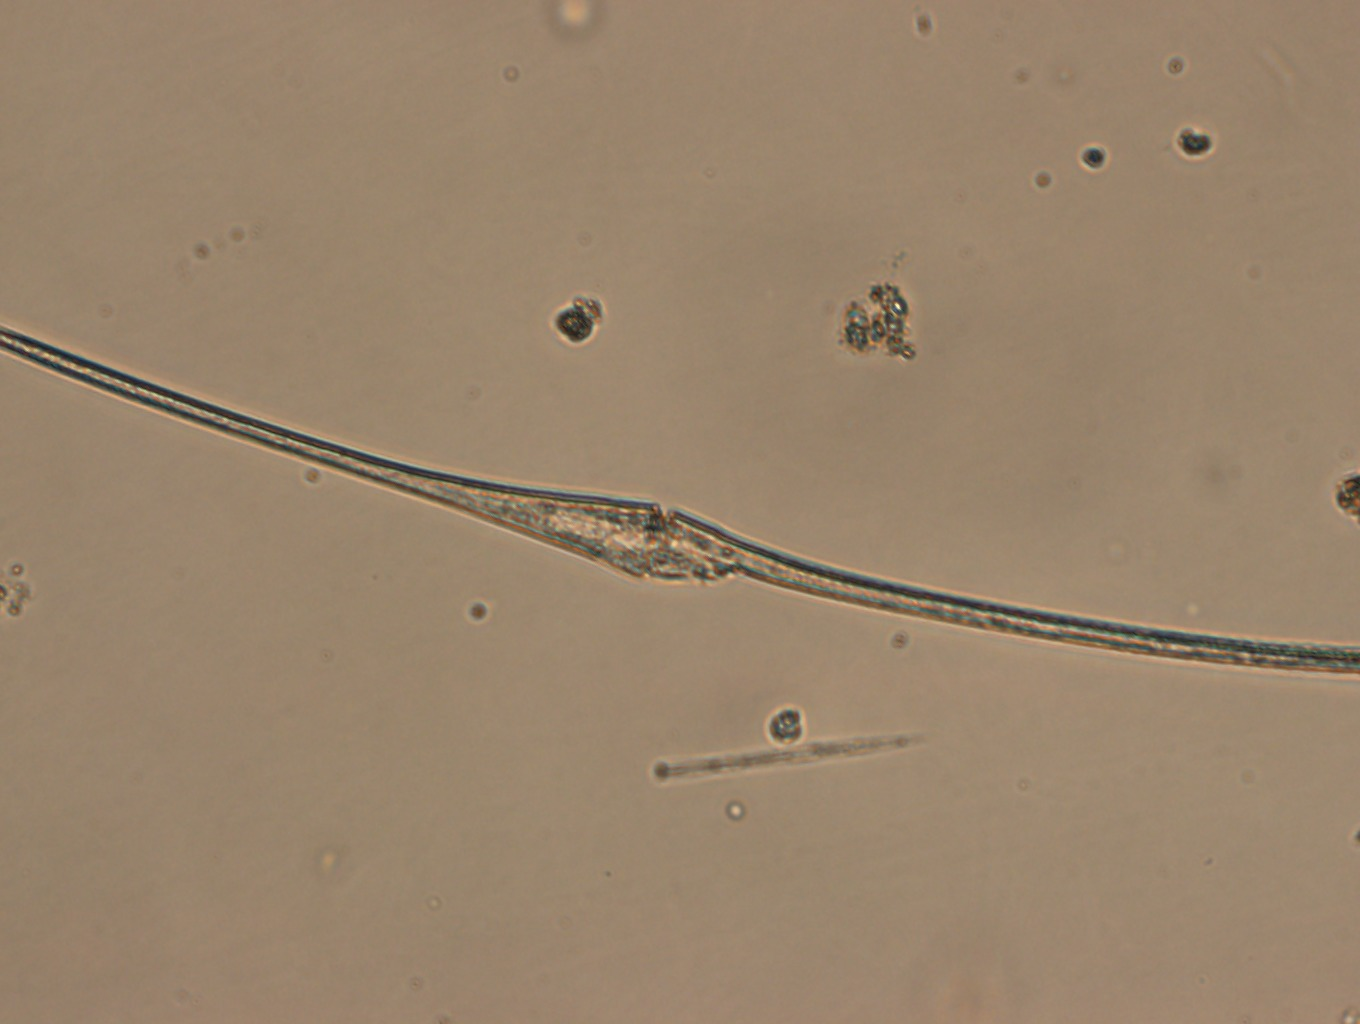ceratium fusus: (1, 321, 1358, 689)
